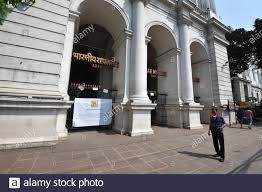mask: (209, 105, 218, 117)
